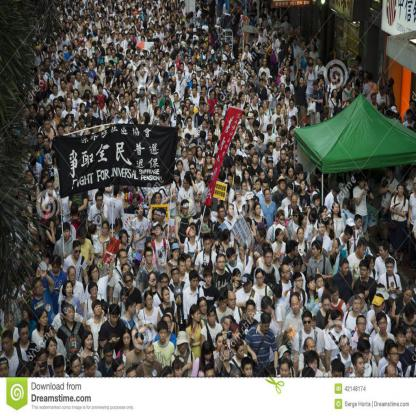face: (38, 354, 48, 371), (2, 338, 12, 353), (73, 359, 82, 375), (21, 327, 30, 343), (390, 348, 399, 364), (357, 357, 365, 374), (41, 311, 49, 327), (132, 330, 140, 346), (380, 318, 388, 334), (292, 297, 300, 313), (335, 316, 343, 332), (342, 338, 350, 354), (374, 301, 383, 315), (134, 339, 143, 353), (146, 347, 155, 361), (303, 317, 312, 331), (283, 265, 291, 280), (164, 317, 172, 332), (358, 294, 366, 309), (359, 318, 367, 333), (1, 364, 9, 379), (7, 315, 14, 332), (35, 282, 44, 295), (159, 329, 168, 342), (309, 358, 318, 371), (281, 364, 290, 377), (49, 341, 57, 355), (67, 308, 75, 322), (218, 256, 226, 270), (361, 349, 369, 363), (208, 311, 216, 325), (387, 367, 397, 378), (398, 334, 407, 346), (86, 334, 93, 349), (70, 269, 77, 284), (230, 293, 237, 308), (124, 333, 131, 348), (218, 336, 225, 351), (309, 339, 316, 354), (88, 364, 96, 377), (117, 364, 125, 377), (359, 245, 367, 258), (200, 301, 208, 314), (245, 364, 253, 377), (247, 306, 255, 319), (56, 366, 65, 377), (66, 283, 73, 297), (406, 328, 413, 342), (406, 291, 414, 303), (172, 271, 180, 283), (296, 277, 304, 289), (223, 349, 231, 361), (75, 246, 82, 259), (121, 253, 128, 266), (266, 253, 273, 266), (257, 272, 264, 285), (147, 295, 154, 308), (131, 303, 138, 316), (238, 346, 245, 359), (360, 267, 368, 278), (111, 315, 119, 326), (176, 367, 184, 378), (179, 341, 187, 352), (233, 329, 241, 340), (263, 322, 271, 333), (324, 300, 332, 311), (92, 268, 99, 280), (126, 276, 133, 288), (342, 264, 349, 276), (147, 253, 154, 265), (205, 240, 212, 252), (162, 278, 169, 290), (150, 274, 157, 286), (221, 298, 228, 310), (164, 291, 171, 303), (106, 352, 113, 364), (313, 245, 320, 257), (380, 247, 387, 259), (194, 310, 201, 322), (225, 319, 232, 331), (329, 315, 336, 327), (354, 300, 361, 312), (48, 330, 56, 340), (26, 277, 34, 287), (297, 296, 303, 309), (95, 305, 102, 316), (123, 265, 130, 276), (24, 250, 31, 261), (64, 229, 71, 240), (387, 264, 394, 275), (244, 281, 251, 292), (205, 276, 212, 287), (192, 278, 199, 289), (186, 258, 192, 270), (180, 262, 186, 274), (100, 339, 108, 348), (299, 229, 305, 241), (311, 316, 317, 328), (22, 310, 29, 320), (91, 287, 98, 297), (53, 264, 60, 274), (156, 226, 163, 236), (321, 208, 328, 218), (320, 224, 327, 234), (317, 277, 324, 287), (110, 229, 116, 240), (97, 196, 103, 207), (281, 150, 287, 161), (166, 229, 172, 240), (174, 249, 180, 260), (235, 273, 241, 284), (292, 197, 298, 208), (278, 231, 284, 242), (334, 292, 340, 303), (43, 258, 50, 267), (295, 265, 302, 274), (122, 295, 129, 304), (206, 352, 213, 361), (80, 235, 86, 245), (122, 234, 128, 244), (10, 282, 16, 292), (103, 224, 108, 236), (67, 98, 73, 108), (263, 183, 269, 193), (370, 260, 376, 270), (183, 206, 189, 216), (158, 212, 164, 222), (256, 206, 262, 216), (229, 206, 235, 216), (310, 281, 316, 291), (283, 353, 290, 361), (240, 248, 245, 259), (257, 232, 262, 243), (22, 212, 28, 221), (38, 135, 44, 144), (45, 122, 51, 131), (190, 165, 196, 174), (224, 193, 230, 202), (299, 171, 305, 180), (280, 181, 286, 190), (156, 195, 162, 204), (190, 228, 196, 237), (230, 255, 236, 264), (182, 148, 188, 157), (225, 235, 231, 244), (335, 204, 341, 213), (329, 220, 335, 229), (294, 214, 300, 223), (279, 215, 285, 224), (346, 234, 352, 243), (128, 372, 137, 378), (56, 216, 61, 226), (48, 183, 53, 193), (197, 172, 202, 182), (269, 169, 274, 179), (220, 209, 225, 219), (304, 216, 309, 226), (266, 190, 271, 200), (407, 315, 414, 322), (27, 173, 33, 181), (206, 156, 212, 164), (45, 139, 50, 148), (46, 105, 51, 114), (178, 163, 183, 172), (183, 179, 188, 188), (229, 177, 234, 186), (289, 169, 294, 178), (254, 155, 259, 164), (245, 171, 250, 180), (257, 182, 262, 191), (288, 187, 293, 196), (301, 182, 306, 191), (152, 231, 157, 240), (149, 243, 154, 252), (198, 148, 203, 157), (189, 153, 194, 162), (243, 208, 248, 217), (399, 187, 404, 196), (365, 290, 370, 299), (35, 246, 41, 253), (43, 177, 49, 184), (31, 150, 37, 157), (249, 200, 255, 207), (204, 215, 210, 222), (315, 199, 321, 206), (20, 192, 25, 200), (85, 128, 90, 136), (40, 109, 45, 117), (411, 102, 416, 110), (125, 94, 130, 102), (243, 183, 248, 191), (134, 199, 139, 207), (295, 246, 299, 256), (215, 114, 220, 122), (208, 132, 213, 140), (358, 219, 363, 227), (330, 295, 334, 305), (277, 138, 281, 147), (116, 101, 120, 110), (155, 212, 159, 221), (212, 239, 218, 245), (24, 194, 30, 200), (23, 147, 28, 154), (60, 128, 65, 135), (66, 127, 71, 134), (76, 129, 81, 136), (94, 126, 99, 133), (111, 109, 116, 116), (57, 109, 62, 116), (120, 97, 125, 104), (46, 60, 51, 67), (175, 176, 180, 183), (236, 183, 241, 190), (237, 193, 242, 200), (283, 167, 288, 174), (242, 167, 247, 174), (139, 208, 144, 215), (188, 119, 193, 126), (178, 124, 183, 131), (160, 121, 165, 128), (203, 122, 208, 129), (192, 148, 197, 155), (231, 149, 236, 156), (233, 143, 238, 150), (81, 120, 85, 128), (90, 109, 94, 117), (201, 79, 205, 87), (373, 95, 377, 103), (246, 134, 250, 142), (237, 141, 241, 149), (222, 120, 226, 128), (387, 169, 391, 177), (388, 113, 394, 118), (249, 118, 254, 124), (291, 130, 296, 136), (282, 135, 287, 141), (50, 80, 55, 86), (231, 167, 236, 173), (334, 192, 339, 198), (118, 224, 122, 231), (82, 106, 86, 113), (94, 106, 98, 113), (49, 113, 53, 120), (55, 101, 59, 108), (26, 110, 30, 117), (54, 86, 58, 93), (75, 91, 79, 98), (78, 73, 82, 80), (193, 89, 197, 96), (211, 93, 215, 100), (209, 80, 213, 87), (242, 86, 246, 93), (287, 91, 291, 98), (408, 113, 412, 120), (291, 119, 295, 126), (285, 148, 289, 155), (166, 90, 170, 97), (187, 101, 191, 108), (191, 106, 195, 113), (157, 108, 161, 115), (62, 82, 66, 89), (55, 73, 59, 80), (90, 64, 94, 71), (286, 157, 290, 164), (154, 100, 158, 107), (131, 107, 135, 114), (123, 111, 127, 118), (180, 139, 184, 146), (212, 158, 216, 165), (246, 224, 250, 231), (34, 71, 37, 80), (237, 161, 242, 166), (25, 138, 29, 144), (31, 128, 35, 134), (99, 87, 103, 93), (82, 78, 86, 84), (189, 65, 193, 71), (260, 80, 264, 86), (281, 85, 285, 91), (381, 90, 385, 96), (291, 101, 295, 107), (278, 106, 282, 112), (242, 116, 246, 122), (279, 128, 283, 134), (270, 147, 274, 153), (178, 72, 182, 78), (150, 69, 154, 75), (137, 72, 141, 78), (130, 72, 134, 78), (200, 105, 204, 111), (53, 47, 57, 53), (40, 85, 43, 93), (66, 64, 70, 70), (95, 49, 99, 55), (252, 148, 256, 154), (269, 162, 273, 168), (261, 173, 265, 179), (219, 248, 223, 254), (138, 47, 141, 55), (119, 61, 123, 67), (184, 108, 188, 114), (205, 115, 209, 121), (186, 138, 190, 144), (302, 42, 306, 48), (361, 181, 365, 187), (311, 215, 315, 221), (69, 117, 72, 124), (31, 106, 34, 113), (67, 86, 70, 93), (84, 75, 87, 82), (203, 88, 206, 95), (217, 88, 220, 95), (255, 98, 258, 105), (219, 109, 222, 116), (240, 129, 243, 136), (258, 137, 261, 144), (143, 70, 146, 77), (205, 105, 208, 112), (167, 107, 170, 114), (70, 47, 73, 54), (93, 59, 96, 66), (150, 31, 153, 38), (264, 59, 267, 66), (135, 103, 138, 110), (306, 53, 309, 60), (285, 68, 288, 75), (238, 77, 241, 84), (411, 169, 414, 176), (250, 79, 254, 84), (274, 88, 278, 93), (300, 78, 304, 83), (309, 67, 313, 72), (320, 80, 324, 85), (360, 74, 364, 79), (255, 127, 259, 132), (268, 129, 272, 134), (289, 151, 293, 156), (141, 65, 145, 70), (121, 89, 125, 94), (172, 80, 176, 85), (37, 51, 41, 56), (66, 72, 70, 77), (76, 57, 80, 62), (267, 154, 271, 159), (132, 188, 136, 193), (226, 46, 230, 51), (187, 112, 191, 117), (214, 141, 218, 146), (201, 137, 205, 142), (206, 149, 210, 154), (112, 119, 115, 125), (34, 99, 37, 105), (73, 77, 76, 83), (204, 76, 207, 82), (273, 81, 276, 87), (243, 95, 246, 101), (318, 59, 321, 65), (335, 90, 338, 96), (348, 83, 351, 89), (365, 73, 368, 79), (353, 76, 356, 82), (282, 100, 285, 106), (264, 102, 267, 108), (260, 108, 263, 114), (234, 100, 237, 106), (179, 54, 182, 60), (163, 64, 166, 70), (120, 75, 123, 81), (133, 92, 136, 98), (156, 83, 159, 89), (162, 71, 165, 77), (175, 95, 178, 101), (60, 54, 63, 60), (98, 30, 101, 36), (113, 51, 116, 57), (120, 35, 123, 41), (165, 10, 168, 16), (131, 35, 134, 41), (42, 72, 45, 78), (57, 64, 60, 70), (61, 73, 64, 79), (62, 64, 65, 70), (99, 67, 102, 73), (97, 78, 100, 84), (112, 95, 115, 101), (84, 51, 87, 57), (178, 25, 181, 31), (175, 45, 178, 51), (166, 55, 169, 61), (157, 49, 160, 55), (136, 57, 139, 63), (118, 64, 121, 70), (205, 43, 208, 49), (246, 47, 249, 53), (291, 29, 294, 35), (289, 46, 292, 52), (287, 61, 290, 67), (223, 63, 226, 69), (237, 63, 240, 69), (252, 70, 255, 76), (249, 67, 252, 73), (214, 64, 217, 70), (194, 65, 197, 71), (326, 177, 329, 183), (269, 47, 272, 53), (88, 123, 92, 127), (224, 87, 228, 91), (220, 102, 224, 106), (220, 77, 224, 81), (93, 98, 96, 103), (195, 55, 198, 60), (186, 58, 189, 63), (193, 75, 196, 80), (194, 80, 197, 85), (214, 81, 217, 86), (357, 59, 360, 64), (310, 59, 313, 64), (314, 85, 317, 90), (394, 112, 397, 117), (270, 79, 273, 84), (246, 108, 249, 113), (248, 105, 251, 110), (238, 103, 241, 108), (215, 108, 218, 113), (182, 65, 185, 70), (173, 68, 176, 73), (155, 65, 158, 70), (162, 60, 165, 65), (123, 69, 126, 74), (128, 70, 131, 75), (128, 83, 131, 88), (149, 95, 152, 100), (76, 41, 79, 46), (82, 43, 85, 48), (40, 45, 43, 50), (58, 38, 61, 43), (63, 33, 66, 38), (93, 26, 96, 31), (63, 23, 66, 28), (64, 16, 67, 21), (75, 16, 78, 21), (96, 16, 99, 21), (128, 34, 131, 39), (104, 13, 107, 18), (85, 11, 88, 16), (99, 7, 102, 12), (110, 9, 113, 14), (130, 20, 133, 25), (161, 10, 164, 15), (157, 14, 160, 19), (139, 20, 142, 25), (142, 31, 145, 36), (150, 24, 153, 29), (41, 66, 44, 71), (49, 53, 52, 58), (89, 62, 92, 67), (102, 64, 105, 69), (116, 86, 119, 91), (108, 49, 111, 54), (167, 33, 170, 38), (165, 41, 168, 46), (157, 42, 160, 47), (161, 53, 164, 58), (155, 58, 158, 63), (152, 54, 155, 59), (128, 52, 131, 57), (142, 58, 145, 63), (204, 30, 207, 35), (200, 36, 203, 41), (196, 49, 199, 54), (210, 47, 213, 52), (281, 29, 284, 34), (270, 31, 273, 36), (266, 38, 269, 43), (264, 22, 267, 27), (294, 40, 297, 45), (150, 80, 153, 85), (183, 105, 186, 110), (209, 124, 212, 129), (240, 54, 243, 59), (243, 75, 246, 80), (230, 76, 233, 81), (231, 70, 234, 75), (210, 71, 213, 76), (204, 69, 207, 74), (199, 72, 202, 77), (193, 58, 196, 63), (207, 105, 209, 112), (144, 115, 146, 122), (44, 98, 47, 102), (85, 98, 88, 102), (110, 102, 113, 106), (72, 76, 74, 82), (263, 75, 266, 79), (287, 81, 290, 85), (337, 84, 340, 88), (388, 80, 391, 84), (251, 92, 254, 96), (278, 122, 281, 126), (243, 128, 246, 132), (170, 69, 173, 73), (135, 89, 138, 93), (142, 96, 145, 100), (135, 81, 138, 85), (170, 82, 173, 86), (40, 38, 42, 44), (59, 30, 62, 34), (73, 22, 76, 26), (86, 25, 89, 29), (79, 19, 81, 25), (73, 28, 76, 32), (67, 24, 70, 28), (53, 21, 55, 27), (103, 20, 106, 24), (78, 5, 81, 9), (122, 3, 125, 7), (144, 2, 147, 6), (171, 1, 174, 5), (180, 14, 183, 18), (153, 11, 156, 15), (159, 29, 162, 33), (110, 74, 113, 78), (142, 38, 145, 42), (118, 46, 121, 50), (183, 31, 186, 35), (188, 44, 191, 48), (186, 53, 189, 57), (192, 28, 195, 32), (261, 32, 264, 36), (258, 26, 261, 30), (299, 33, 302, 37), (207, 7, 210, 11), (279, 35, 282, 39), (225, 75, 228, 79), (210, 62, 213, 66), (415, 179, 416, 191), (203, 61, 206, 65), (263, 105, 265, 110), (250, 86, 252, 91), (149, 59, 151, 64), (189, 89, 191, 94), (82, 27, 84, 32), (69, 18, 71, 23), (107, 31, 109, 36), (113, 35, 115, 40), (116, 16, 118, 21), (75, 7, 77, 12), (81, 2, 83, 7), (71, 2, 73, 7), (90, 4, 92, 9), (125, 5, 127, 10), (148, 5, 150, 10), (169, 3, 171, 8), (145, 15, 147, 20), (135, 13, 137, 18), (135, 20, 137, 25), (133, 29, 135, 34), (162, 27, 164, 32), (166, 19, 168, 24), (83, 64, 85, 69), (174, 37, 176, 42), (129, 46, 131, 51), (273, 19, 275, 24), (262, 9, 264, 14), (289, 36, 291, 41), (133, 122, 135, 127), (266, 48, 268, 53), (222, 58, 224, 63), (99, 46, 102, 49), (133, 1, 136, 4), (163, 23, 166, 26), (147, 35, 150, 38), (133, 54, 136, 57), (254, 7, 257, 10), (276, 29, 279, 32), (333, 80, 335, 84), (146, 64, 148, 68), (88, 17, 90, 21), (101, 39, 103, 43), (107, 23, 109, 27), (117, 26, 119, 30), (88, 11, 90, 15), (70, 12, 72, 16), (129, 11, 131, 15), (111, 19, 113, 23), (154, 4, 156, 8), (175, 15, 177, 19), (156, 26, 158, 30), (173, 17, 175, 21), (178, 18, 180, 22), (110, 63, 112, 67), (91, 37, 93, 41), (179, 36, 181, 40), (145, 52, 147, 56), (183, 4, 185, 8), (187, 19, 189, 23), (191, 39, 193, 43), (256, 37, 258, 41), (268, 9, 270, 13), (296, 29, 298, 33), (277, 17, 279, 21), (271, 13, 273, 17), (196, 1, 198, 5), (82, 18, 84, 21), (111, 46, 113, 49), (68, 7, 70, 10), (101, 4, 103, 7), (120, 14, 122, 17), (129, 1, 131, 4), (161, 5, 163, 8), (130, 31, 132, 34), (119, 115, 121, 118), (233, 14, 235, 17), (263, 17, 265, 20), (275, 38, 277, 41), (313, 46, 314, 51), (269, 103, 270, 108), (213, 32, 215, 34), (131, 4, 132, 8), (234, 66, 236, 68), (180, 9, 181, 12), (157, 9, 158, 12), (125, 12, 126, 15), (176, 12, 177, 14)
